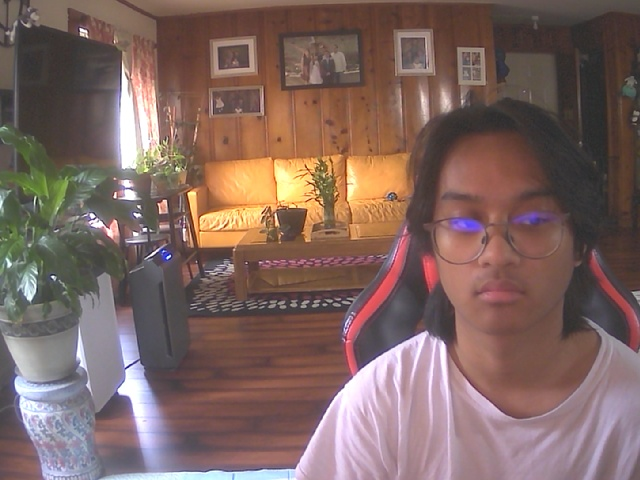neutral: (421, 118, 590, 338)
